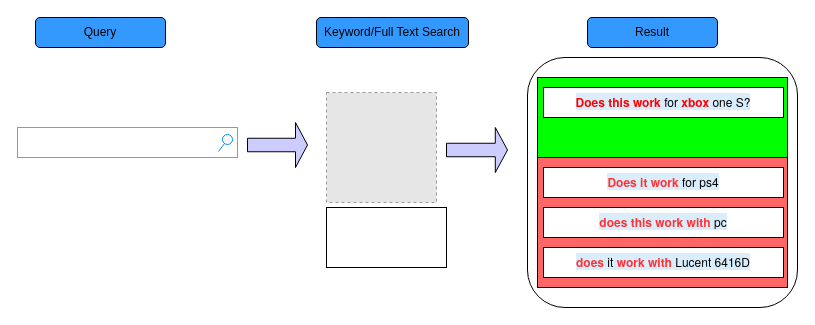
Image size: 815x325. Some labels were removed from this diagram. Grey dashed boxes stand in for pictures. Here are the shapes that lost their labels. From the top down, the centre of each, then its label:
At point 127,142: "does this work with xbox?".
At point 386,237: "1. Inverted Index 2. BM25 Score".
